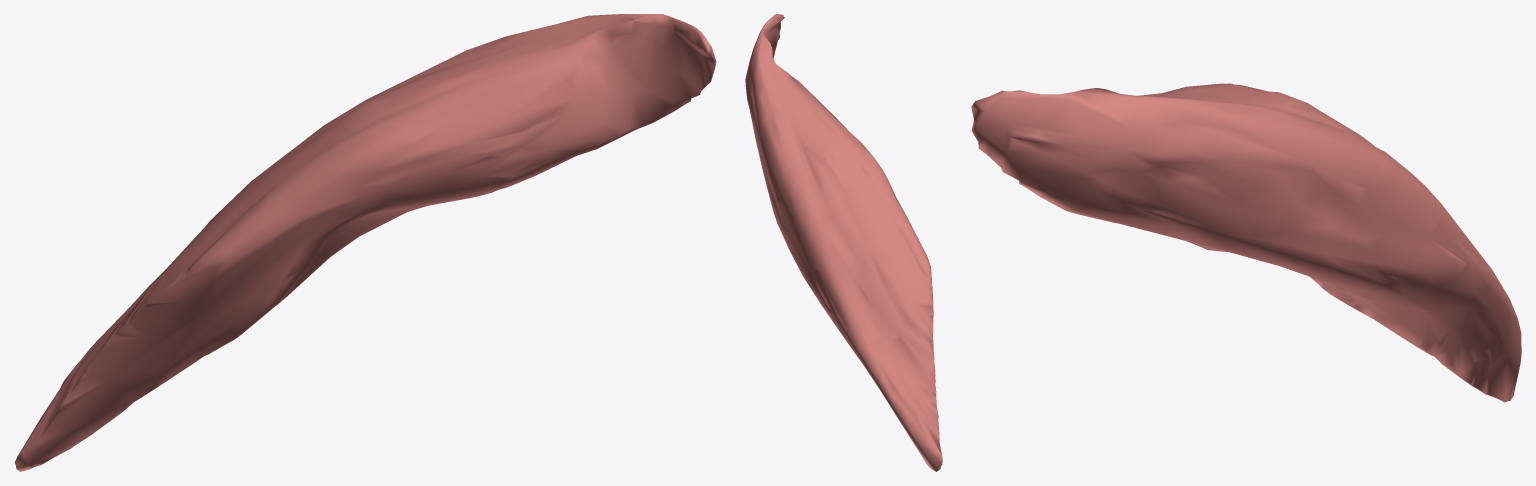
3 renders of one model, left to right at view 1: azimuth 30°, elevation 25°; view 2: azimuth 150°, elevation 25°; view 3: azimuth 270°, elevation 25°, orthographic. The views are drawn at different scales.
Parts seen in each view (by area): view 1: ZA_a9f9cad10f26f863; view 2: ZA_a9f9cad10f26f863; view 3: ZA_a9f9cad10f26f863.
Part boxes in pixels (x1,y1,x2,y2): ZA_a9f9cad10f26f863: [14, 14, 716, 471]; ZA_a9f9cad10f26f863: [745, 14, 942, 471]; ZA_a9f9cad10f26f863: [971, 83, 1521, 402].
Size of the model in its own units: 0.0961 by 0.0895 by 0.0759.
